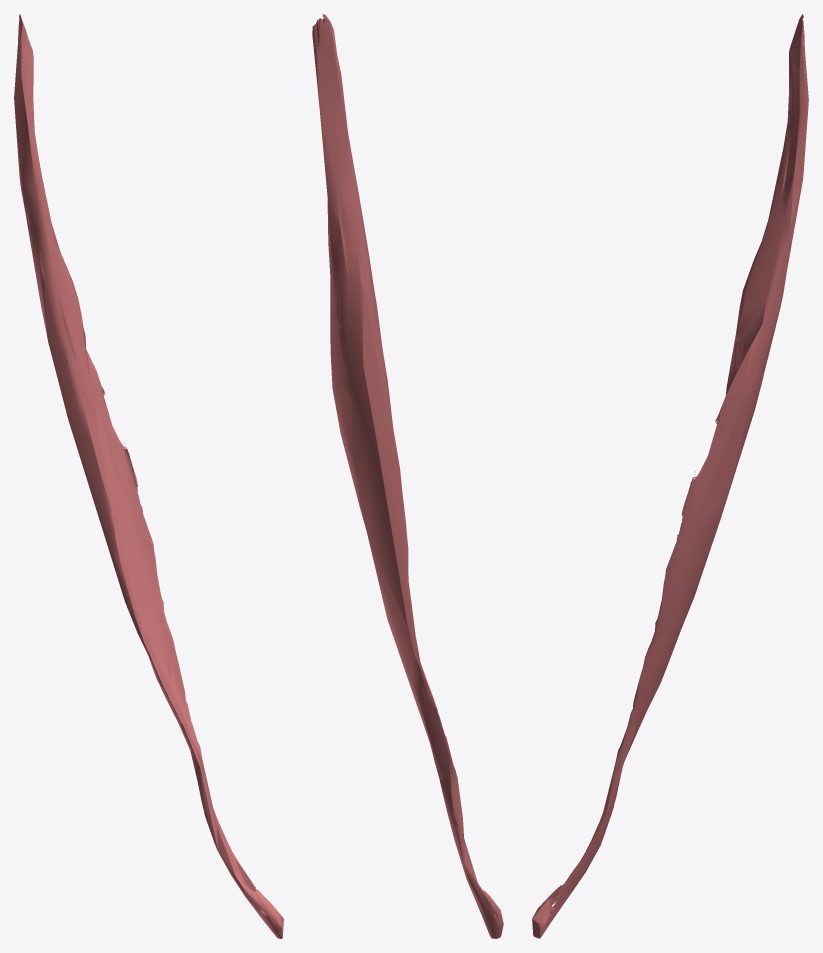
The picture shows the model from 3 angles, left to right: view 1: azimuth 90°, elevation 25°; view 2: azimuth 150°, elevation 25°; view 3: azimuth 270°, elevation 25°; orthographic projection. The views are drawn at different scales.
Visible parts, largest first — view 1: FJ1472; view 2: FJ1472; view 3: FJ1472.
Boxes of the visible parts, x1,y1,x2,y2 form: FJ1472: [14, 14, 283, 938]; FJ1472: [312, 14, 503, 938]; FJ1472: [532, 14, 808, 938].
Bounding box in the file's own units: 0.0179 × 0.2862 × 0.0767.
